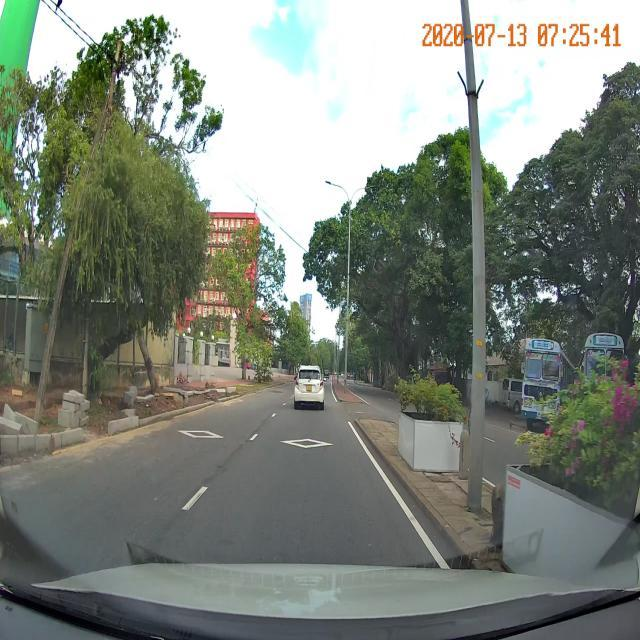diamond: (241, 434, 372, 454)
